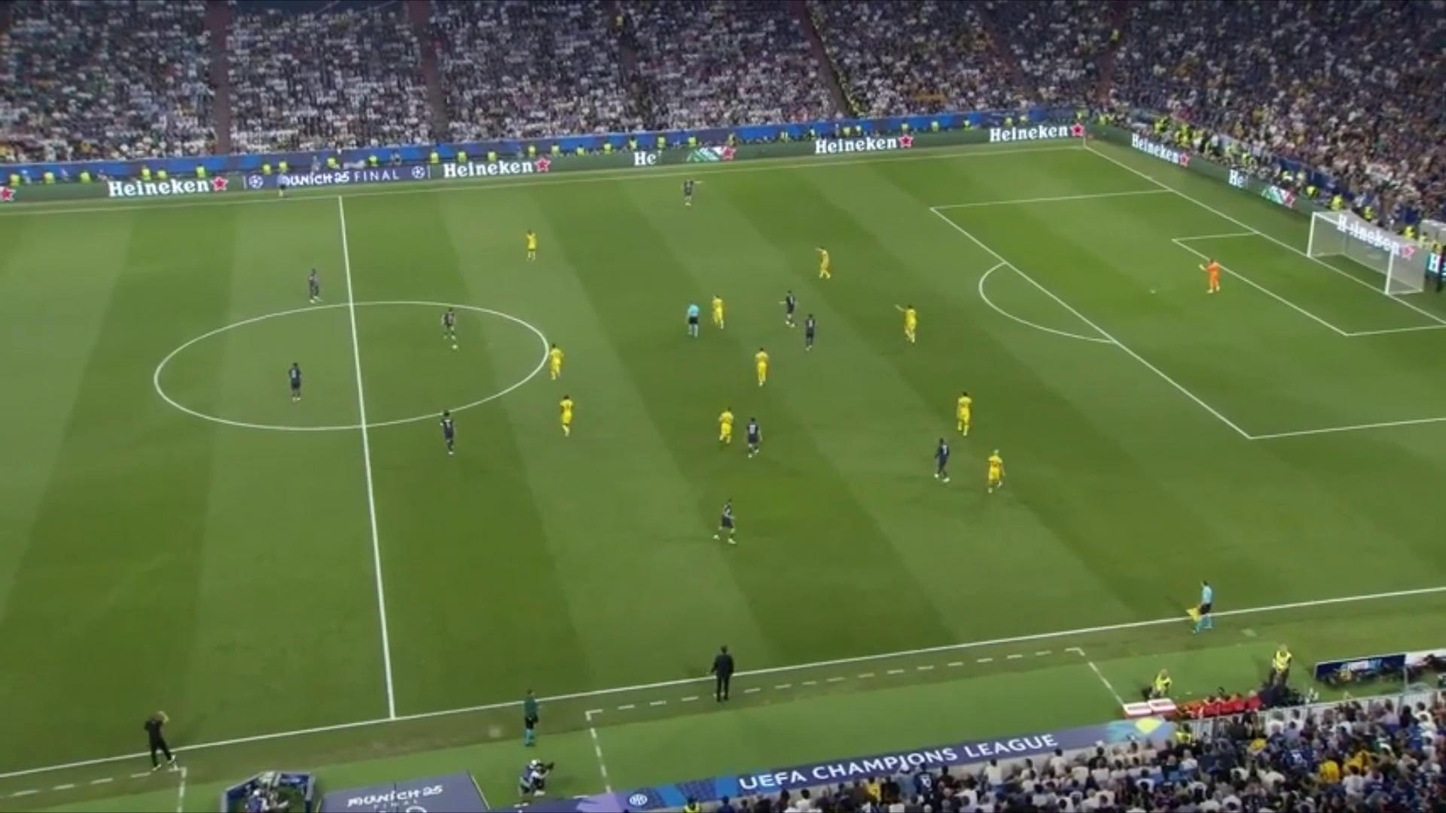ball: (451, 344, 459, 350)
